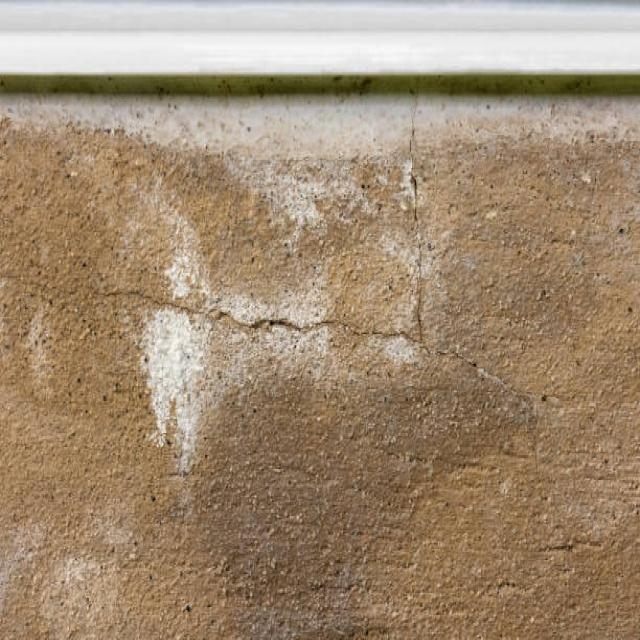efflorescence: (8, 87, 638, 484)
